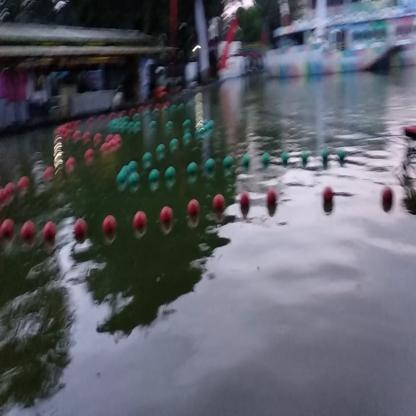green_buoy: (150, 170, 159, 191), (188, 163, 198, 180), (131, 172, 140, 190), (224, 153, 233, 170), (242, 154, 251, 170), (167, 169, 176, 185), (206, 159, 214, 176), (300, 152, 309, 167), (262, 152, 270, 168), (118, 173, 127, 187), (338, 147, 346, 162), (321, 147, 328, 164), (283, 151, 289, 166)
red_buoy: (21, 220, 35, 245), (380, 184, 394, 208), (43, 220, 56, 244), (103, 215, 117, 237), (186, 200, 200, 219), (75, 219, 87, 241), (134, 213, 146, 234), (160, 209, 172, 229), (2, 219, 14, 239), (322, 187, 333, 207), (213, 196, 225, 214), (240, 193, 251, 211), (266, 191, 276, 210)
